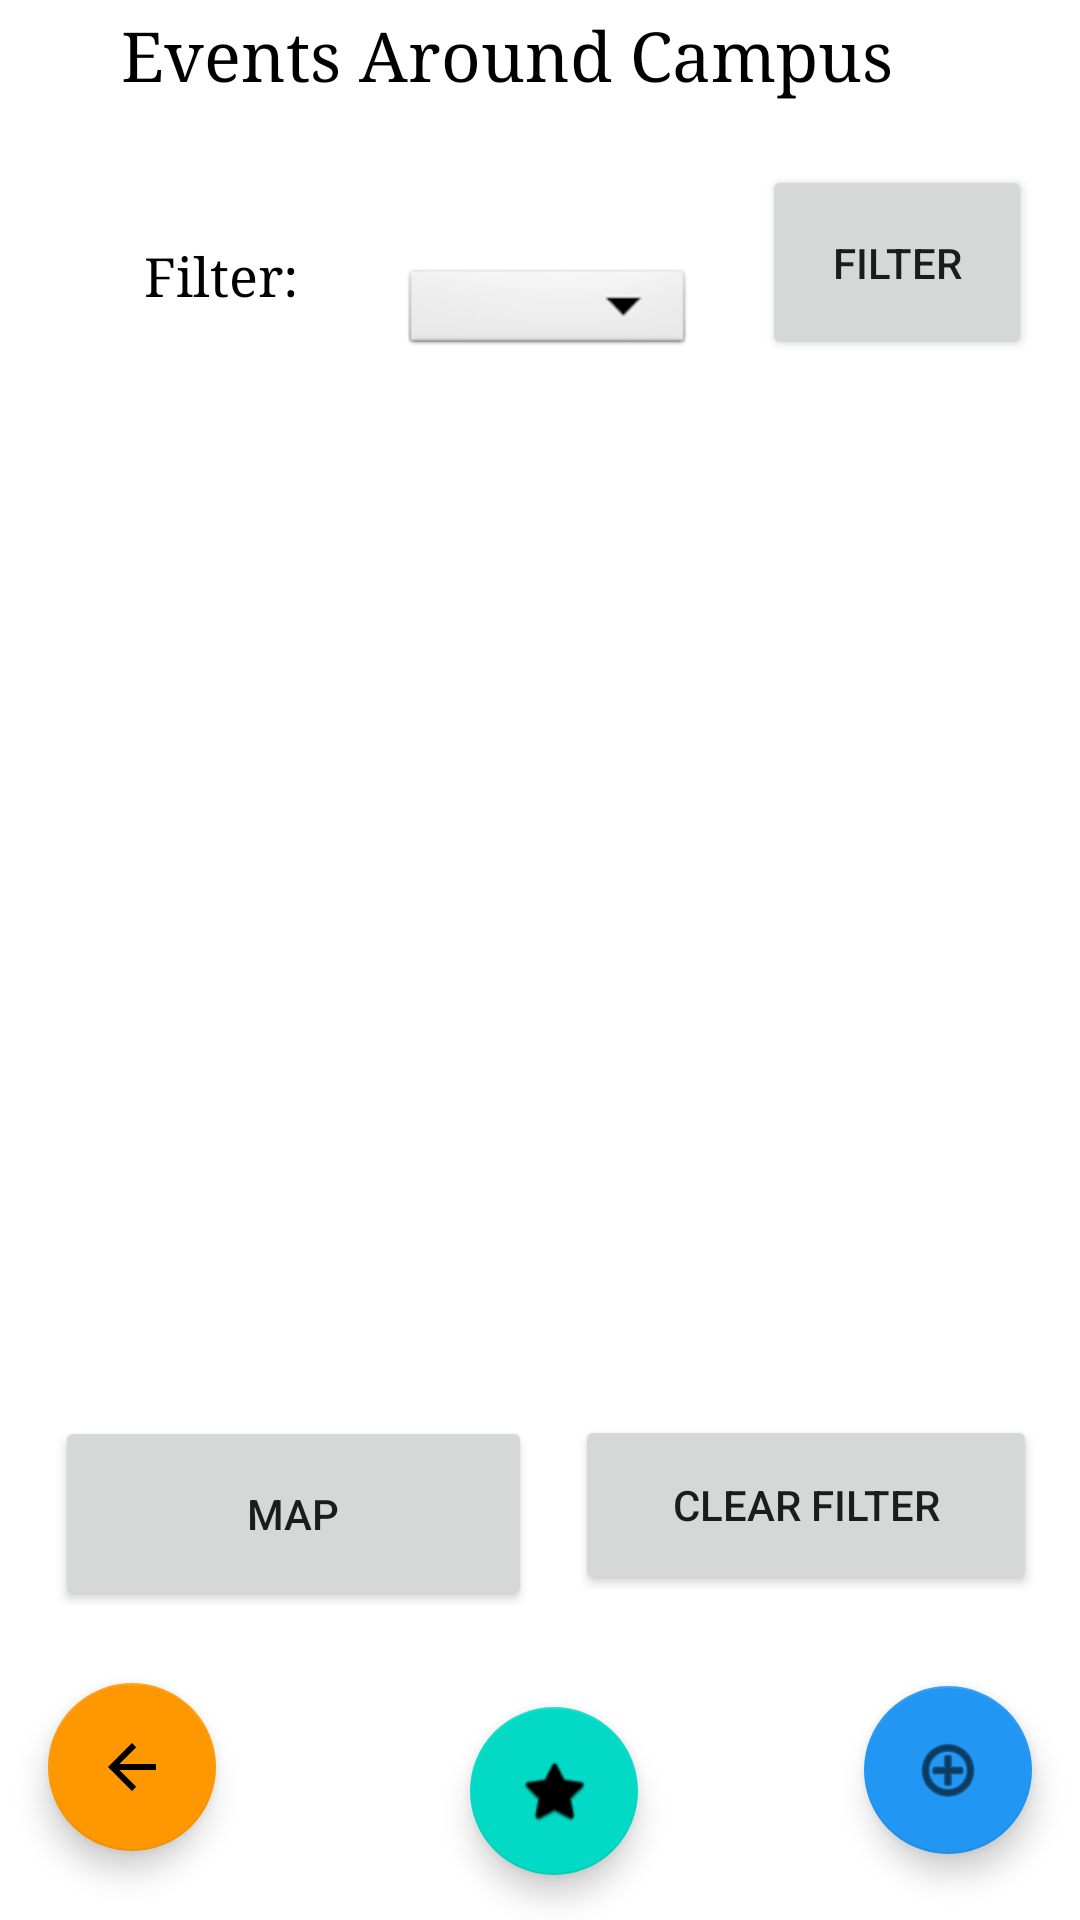

Point at icon controls on the screen. Image size 1080px×1920px, points as point (x, y).
add: point (948, 1770)
star on: point (554, 1791)
